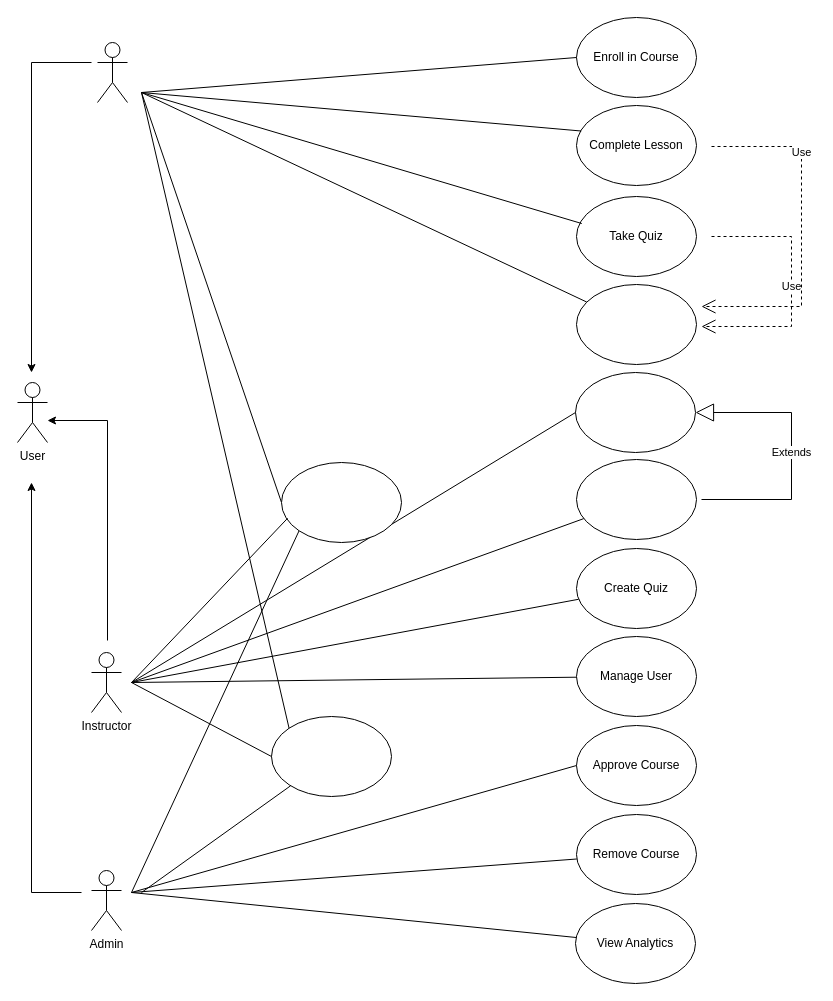
This 833x1001 diagram has some shape labels left out. Here are the shapes that lost their labels. From the top down, the centre of each, then its label:
point (112, 72): Student
point (636, 324): View Certificate
point (635, 412): Create Course
point (341, 502): Login
point (636, 499): Upload Lesson
point (331, 756): Logout
